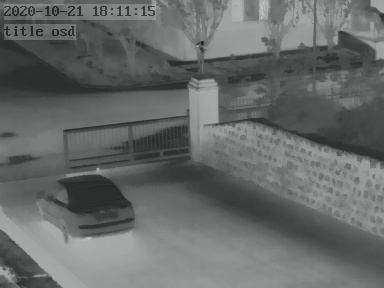vehicle: (38, 170, 132, 245)
